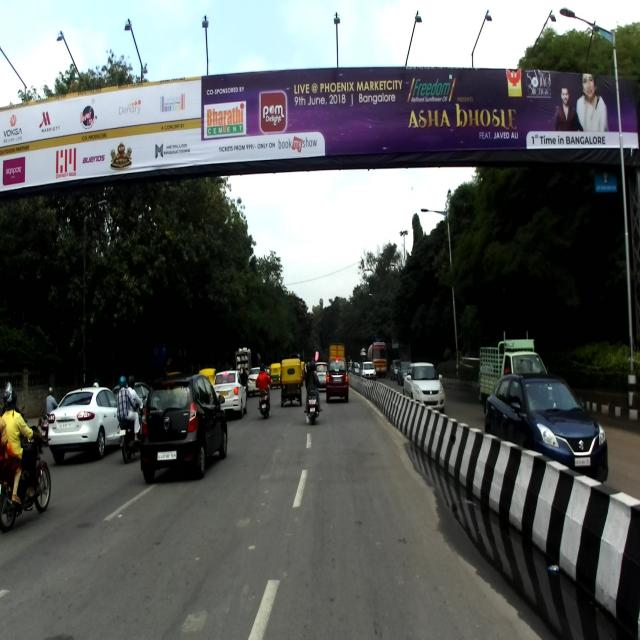Car_Hyundai: (137, 372, 228, 484)
Car_Maruti-Suzuki: (484, 372, 609, 484), (402, 357, 447, 414), (325, 356, 349, 402)
Car_Skoda: (47, 386, 121, 464)
motorcycle_Honda: (117, 393, 146, 463)
motorcycle_TVS: (0, 416, 51, 532)
scooter: (304, 378, 320, 423), (257, 380, 271, 420)
